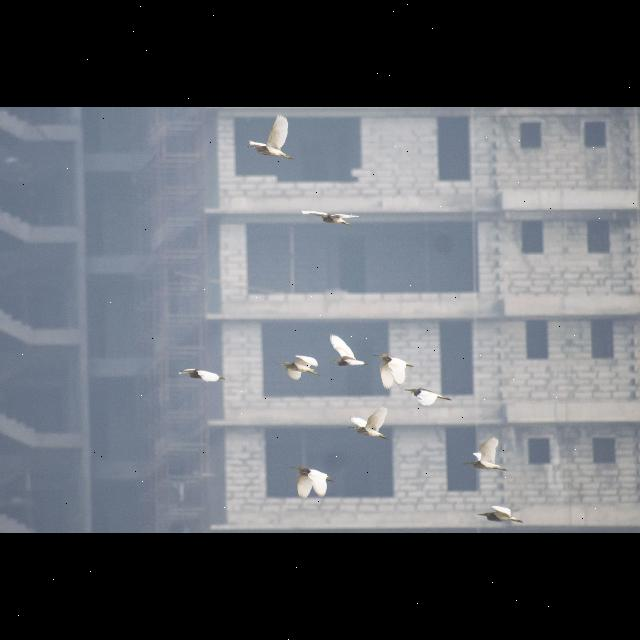heron: (248, 110, 300, 160), (286, 462, 338, 504), (461, 433, 511, 475), (346, 404, 394, 446), (296, 206, 369, 232), (326, 332, 370, 372), (276, 350, 322, 388), (474, 502, 528, 528), (401, 384, 459, 408), (176, 365, 230, 387)
